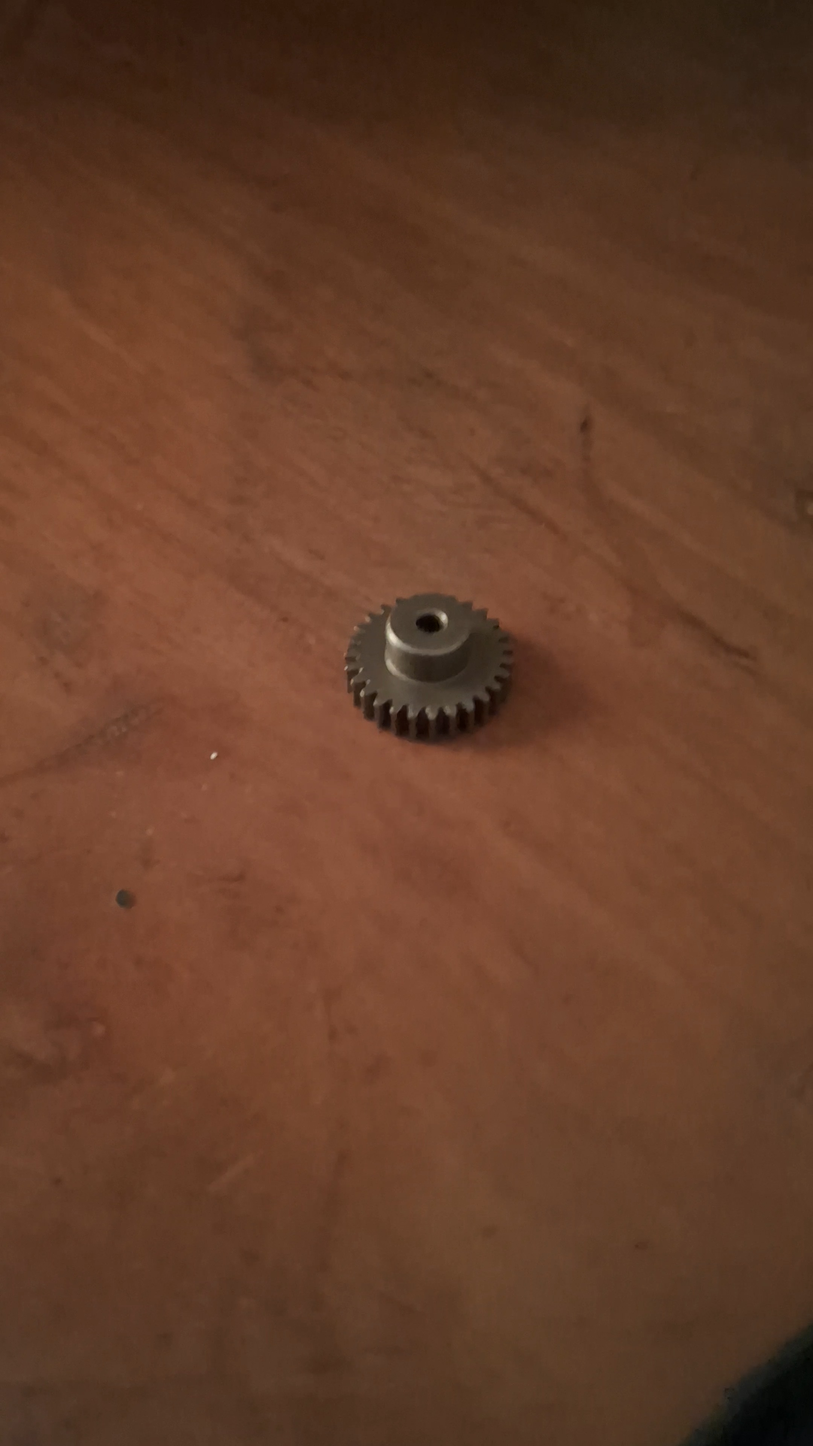spur gear: (346, 593, 512, 739)
